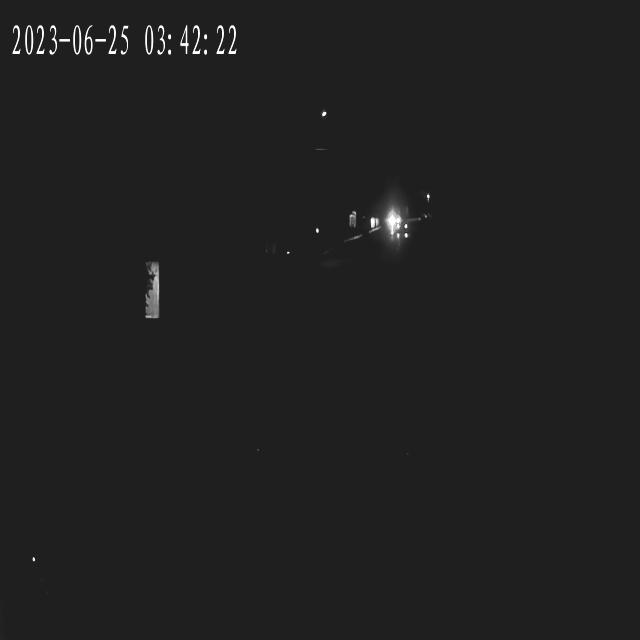Car: (386, 214, 406, 233)
